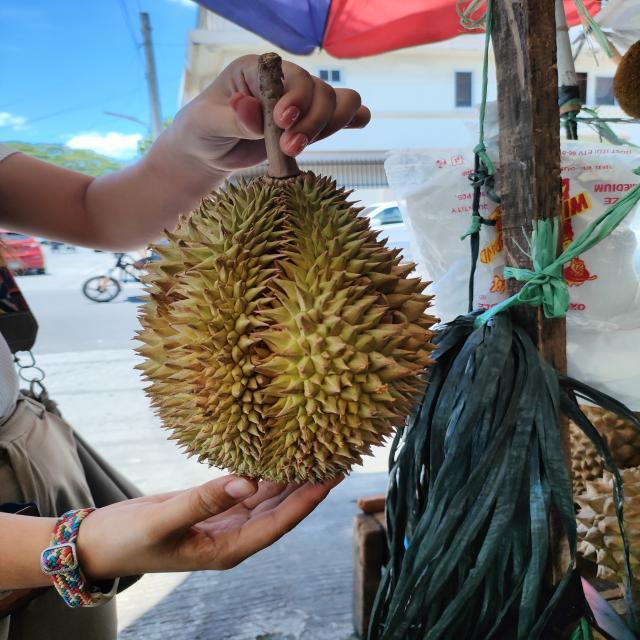mature: (135, 167, 439, 485)
